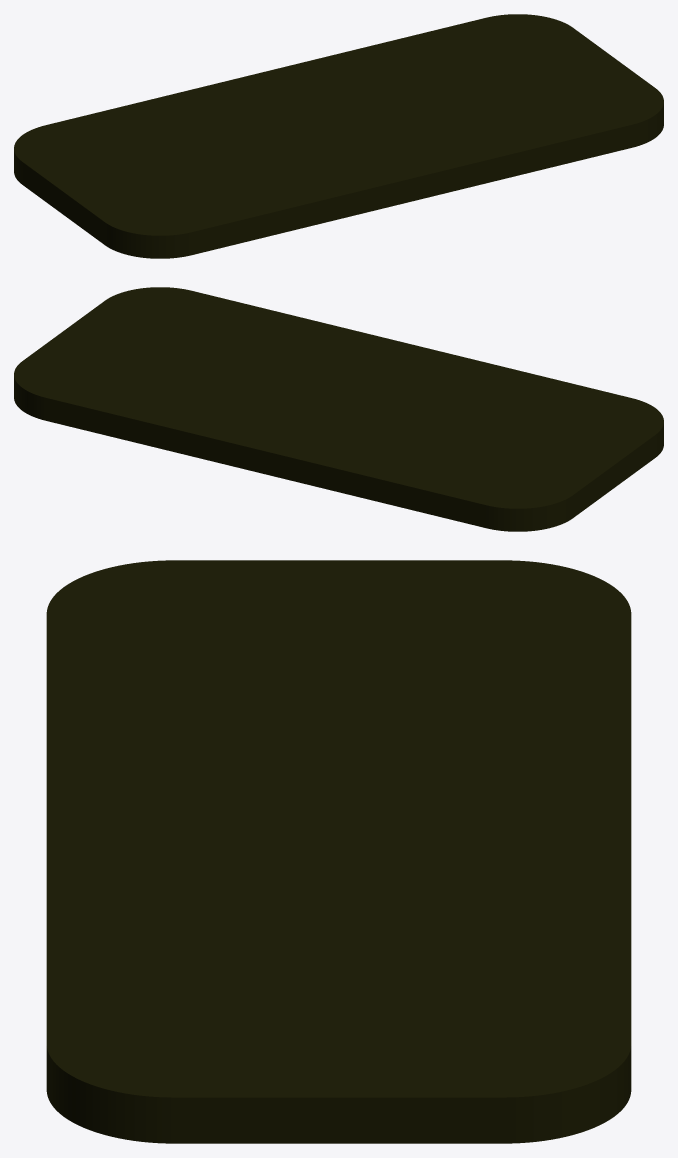
File: CoverArduino.obj
3 views of the same model, one above another, from view 1: azimuth 30°, elevation 25°; view 2: azimuth 150°, elevation 25°; view 3: azimuth 270°, elevation 25° (orthographic). The views are drawn at different scales.
Parts seen in each view (by area): view 1: Body3; view 2: Body3; view 3: Body3.
Boxes of the visible parts, left/top/right/bottom form: Body3: left=14, top=14, right=663, bottom=258; Body3: left=14, top=287, right=663, bottom=531; Body3: left=46, top=560, right=631, bottom=1143.
Bounding box in the file's own units: 50 × 2 × 23.
